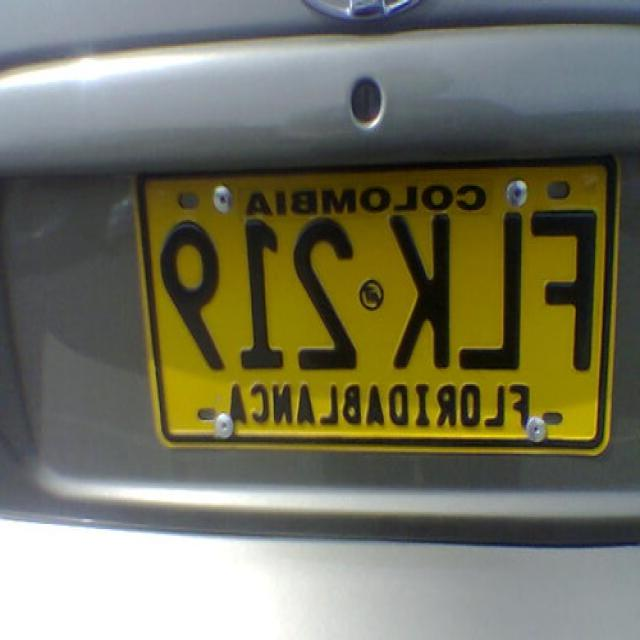placas: (152, 207, 603, 376)
